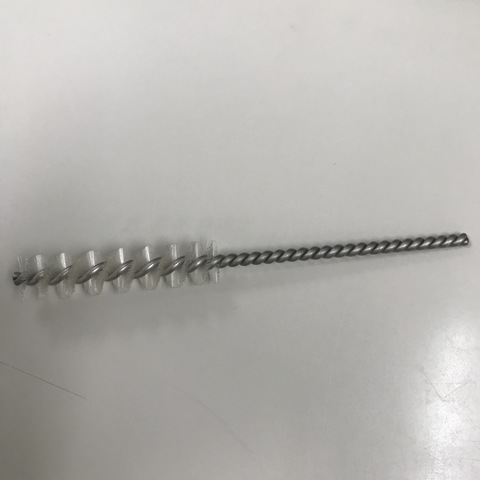Twist Brush-B: (13, 230, 469, 300)
